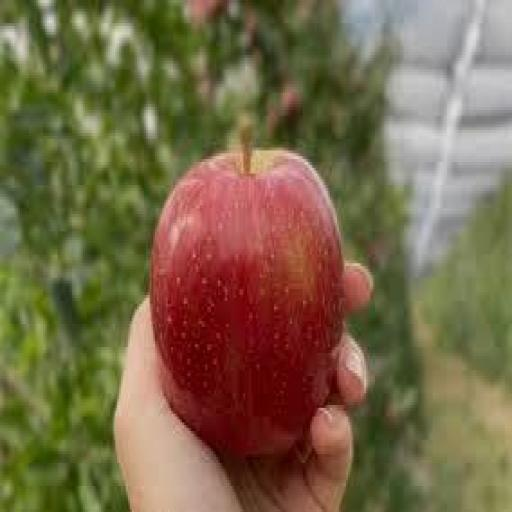apple: (150, 145, 344, 454)
